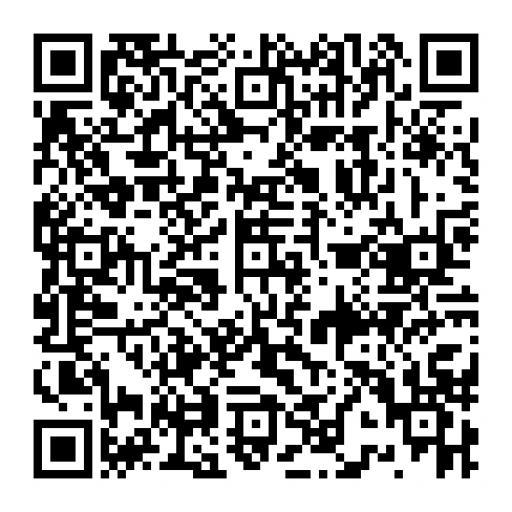qr_code: (33, 32, 480, 480)
